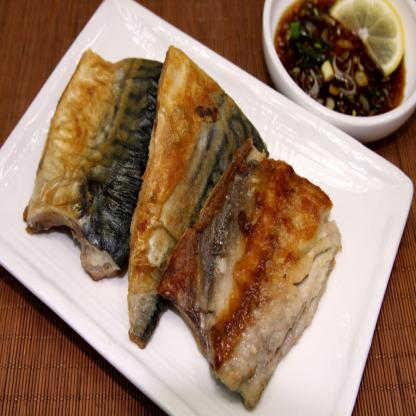Peixe: (35, 39, 332, 412)
